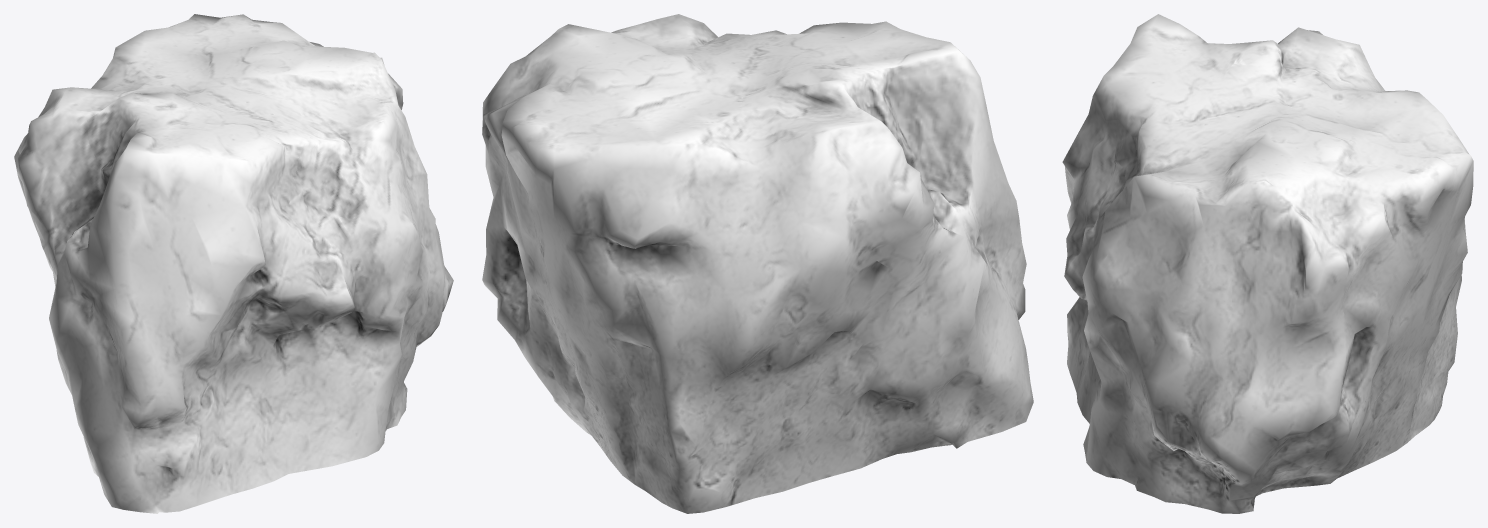
Rendered from Rock001_LOD0.fbx.
The picture shows the model from 3 angles, left to right: view 1: azimuth 30°, elevation 25°; view 2: azimuth 150°, elevation 25°; view 3: azimuth 270°, elevation 25°; orthographic projection. The views are drawn at different scales.
Parts seen in each view (by area): view 1: Rock001; view 2: Rock001; view 3: Rock001.
Part boxes in pixels (bbox=[...]): Rock001: bbox=[14, 14, 453, 513]; Rock001: bbox=[482, 14, 1033, 513]; Rock001: bbox=[1062, 14, 1473, 513].
Size of the model in its own units: 4.26 by 3.4 by 3.67.
